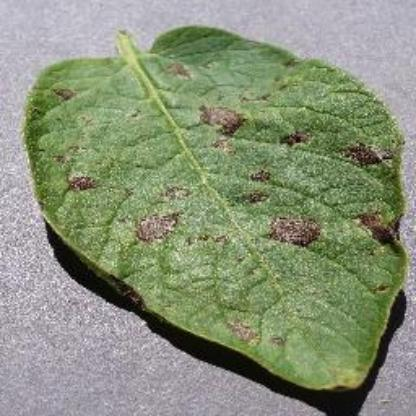Early-Blight: (21, 14, 415, 400)
